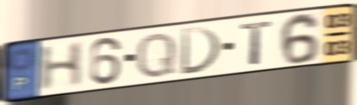6: (278, 10, 322, 66), (88, 35, 123, 87)
D: (178, 25, 224, 77)
H: (38, 39, 87, 94)
Q: (134, 30, 178, 81)
T: (239, 19, 275, 67)
